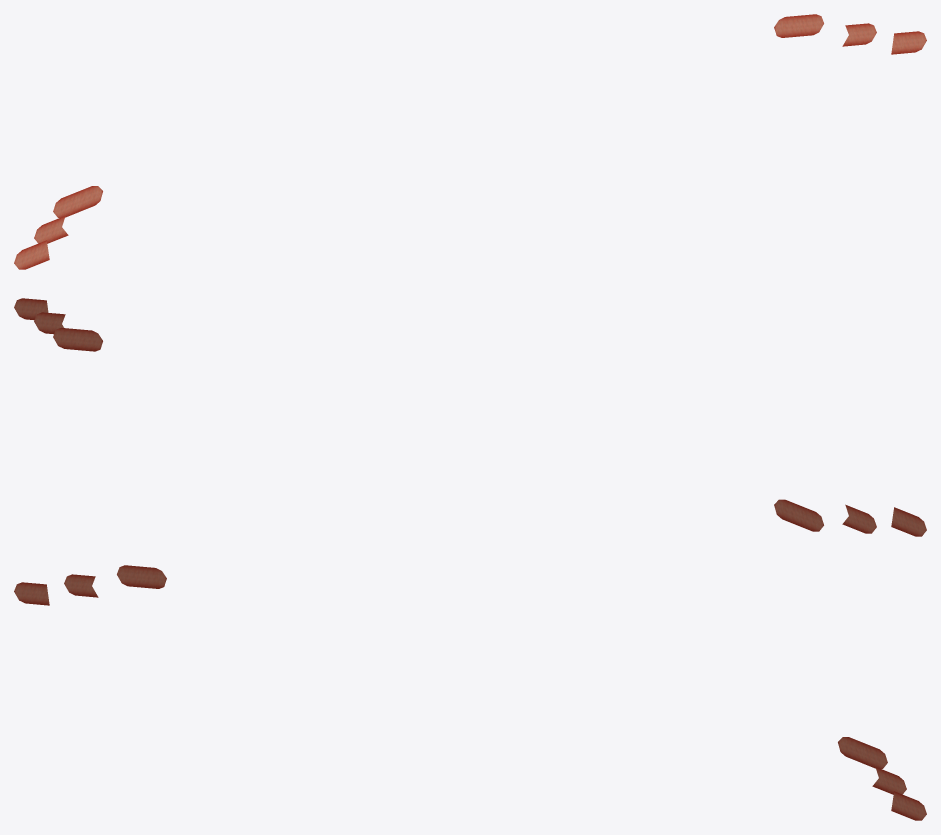
Rendered from vt49_booster_s02_on_l1.fbx.
The picture shows the model from 3 angles, top to bottom: view 1: azimuth 30°, elevation 25°; view 2: azimuth 150°, elevation 25°; view 3: azimuth 330°, elevation 25°; orthographic projection.
Parts seen in each view (by area): view 1: mesh_node; view 2: mesh_node; view 3: mesh_node.
Boxes of the visible parts, left/top/right/bottom form: mesh_node: left=14, top=14, right=926, bottom=269; mesh_node: left=14, top=298, right=926, bottom=536; mesh_node: left=14, top=565, right=926, bottom=820.
Bounding box in the file's own units: 30.46 × 1.16 × 1.84.
1 material, 1 textured.
